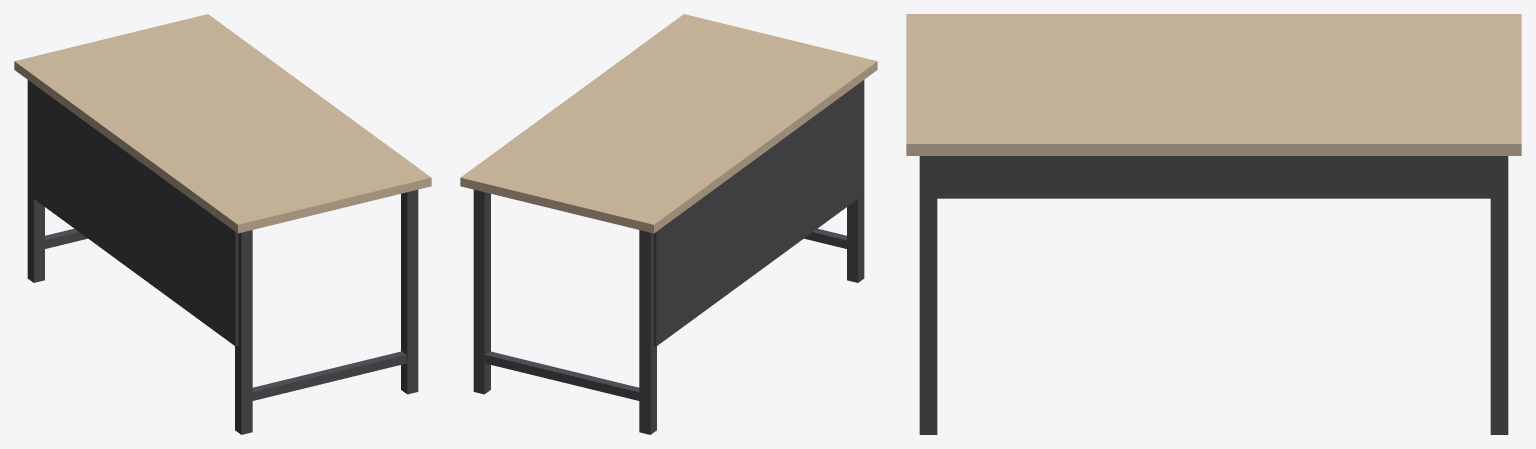
File: SM_Prop_Desk.glb
The picture shows the model from 3 angles, left to right: view 1: azimuth 30°, elevation 25°; view 2: azimuth 150°, elevation 25°; view 3: azimuth 270°, elevation 25°; orthographic projection. The views are drawn at different scales.
Visible parts, largest first — view 1: SM_Prop_Desk; view 2: SM_Prop_Desk; view 3: SM_Prop_Desk.
Boxes of the visible parts, <box> form: SM_Prop_Desk: <box>14,14,431,434</box>; SM_Prop_Desk: <box>460,14,877,434</box>; SM_Prop_Desk: <box>906,14,1521,434</box>.
Bounding box in the file's own units: 0.7 × 0.745 × 1.4.
